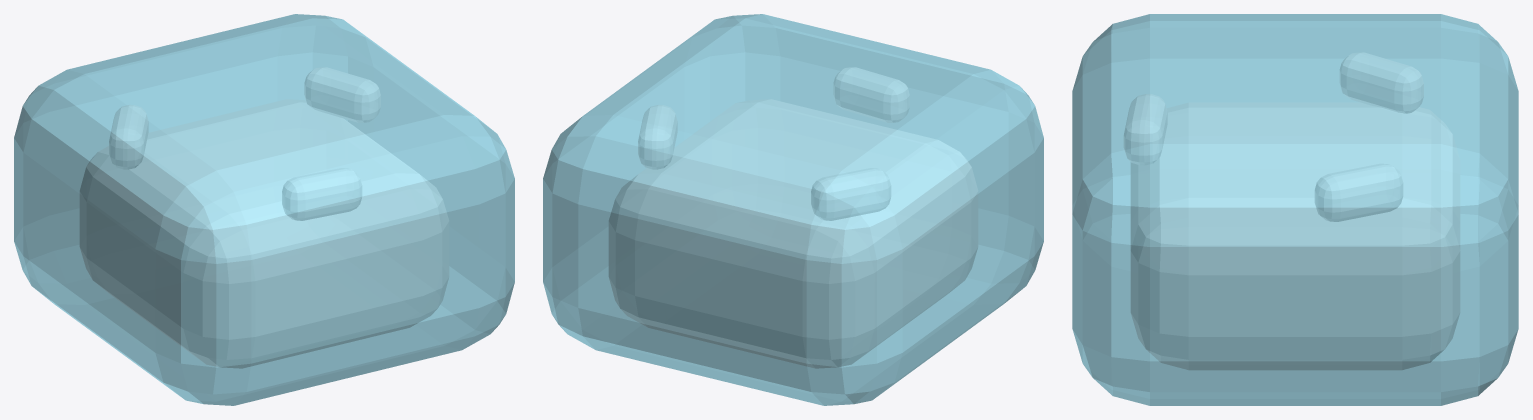
File: PR3D_Container_Ice.glb
3 renders of one model, left to right at view 1: azimuth 30°, elevation 25°; view 2: azimuth 150°, elevation 25°; view 3: azimuth 270°, elevation 25°, orthographic. The views are drawn at different scales.
Visible parts, largest first — view 1: Visual_Ice_ClearShell, Visual_Ice_FrostedCore, Visual_Ice_Highlight_02, Visual_Ice_Highlight_00, Visual_Ice_Highlight_01; view 2: Visual_Ice_ClearShell, Visual_Ice_FrostedCore, Visual_Ice_Highlight_01, Visual_Ice_Highlight_02, Visual_Ice_Highlight_00; view 3: Visual_Ice_ClearShell, Visual_Ice_FrostedCore, Visual_Ice_Highlight_00, Visual_Ice_Highlight_01, Visual_Ice_Highlight_02.
Boxes of the visible parts, <box> form: Visual_Ice_ClearShell: <box>14,14,514,405</box>; Visual_Ice_FrostedCore: <box>80,99,448,368</box>; Visual_Ice_Highlight_02: <box>282,168,361,220</box>; Visual_Ice_Highlight_00: <box>304,67,380,122</box>; Visual_Ice_Highlight_01: <box>109,105,148,169</box>; Visual_Ice_ClearShell: <box>543,14,1043,405</box>; Visual_Ice_FrostedCore: <box>609,99,977,368</box>; Visual_Ice_Highlight_01: <box>811,168,890,220</box>; Visual_Ice_Highlight_02: <box>833,67,909,122</box>; Visual_Ice_Highlight_00: <box>638,105,677,169</box>; Visual_Ice_ClearShell: <box>1072,14,1518,405</box>; Visual_Ice_FrostedCore: <box>1131,102,1459,369</box>; Visual_Ice_Highlight_00: <box>1315,164,1402,221</box>; Visual_Ice_Highlight_01: <box>1340,52,1423,113</box>; Visual_Ice_Highlight_02: <box>1124,94,1167,165</box>.
Size of the model in its own units: 0.92 by 0.58 by 0.92.
